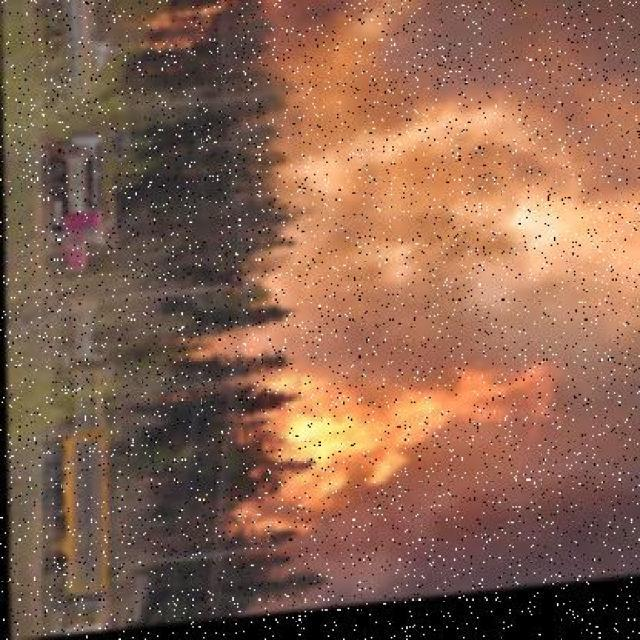Fire: (281, 356, 554, 484)
